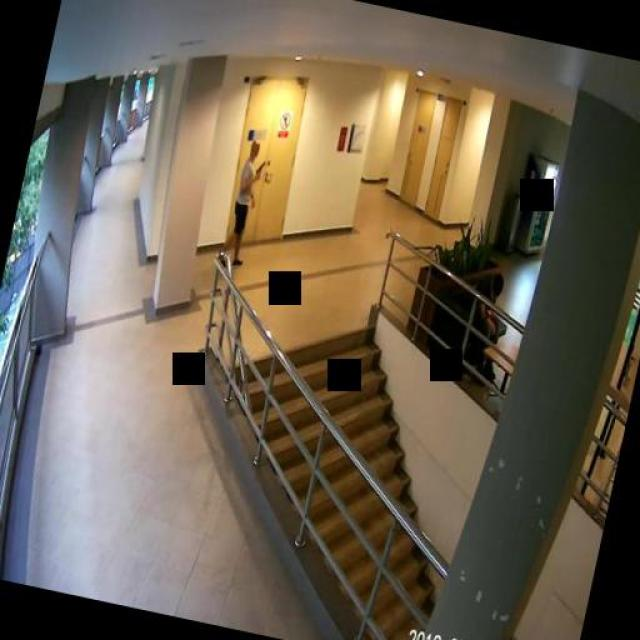gun: (252, 158, 264, 176)
